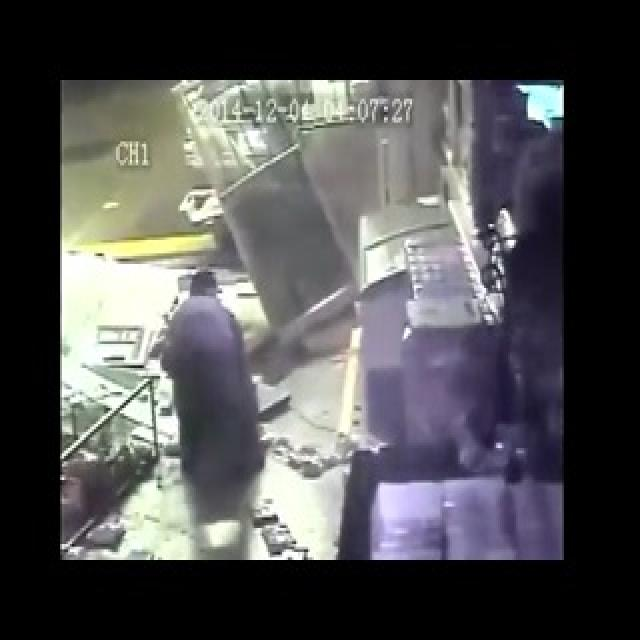thief: (145, 252, 237, 330)
